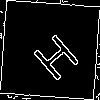H: (25, 25, 82, 83)
